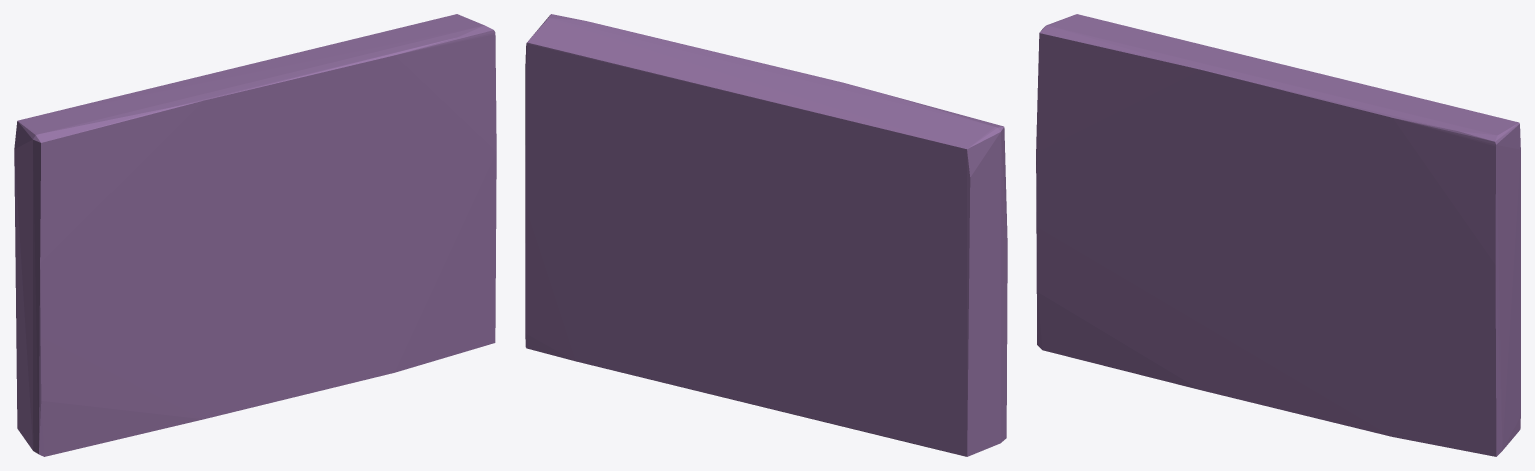
The model's file is pallet_rough_black_a02.glb.
3 views of the same model, side by side, from view 1: azimuth 30°, elevation 25°; view 2: azimuth 150°, elevation 25°; view 3: azimuth 330°, elevation 25° (orthographic).
Parts seen in each view (by area): view 1: geometry_0; view 2: geometry_0; view 3: geometry_0.
Part boxes in pixels (box(x1,y1,x2,y2)): geometry_0: box(14, 14, 496, 456); geometry_0: box(525, 14, 1007, 456); geometry_0: box(1036, 14, 1520, 456).
Bounding box in the file's own units: 0.4798 × 0.32 × 0.0579.
